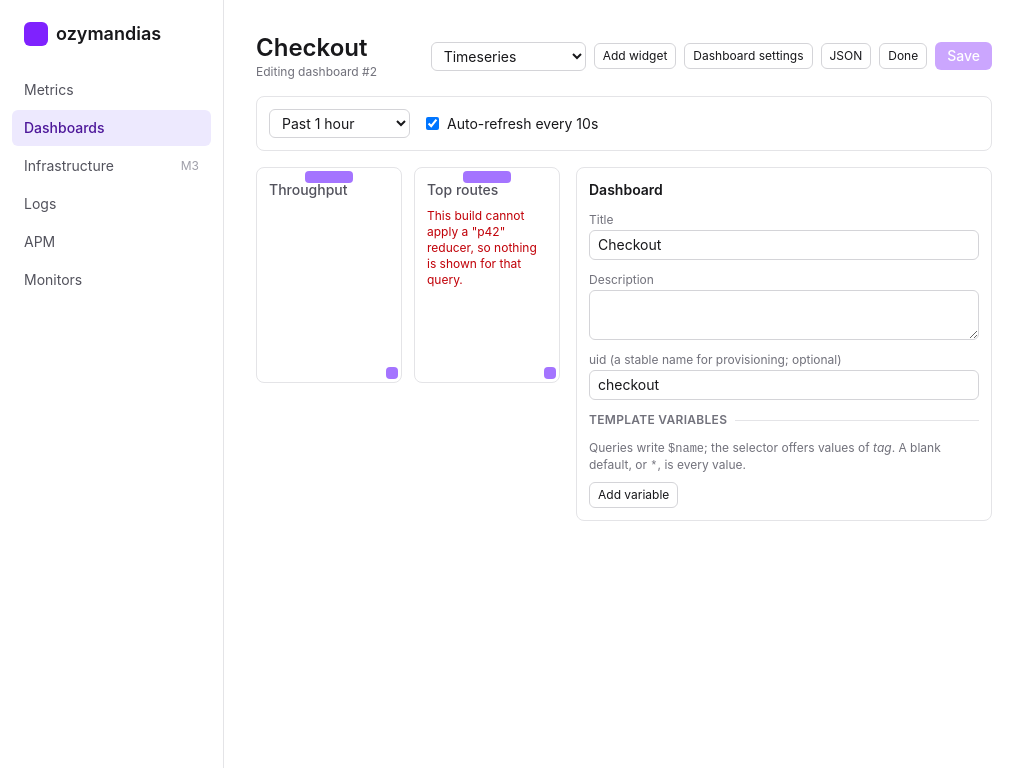
Test: saving › lists every problem a refusal names
Expected: the heading "Checkout" is shown, [256,32,377,64]
Clear the field labelled "Title". click: (784, 245)
box: [589,230,979,260]
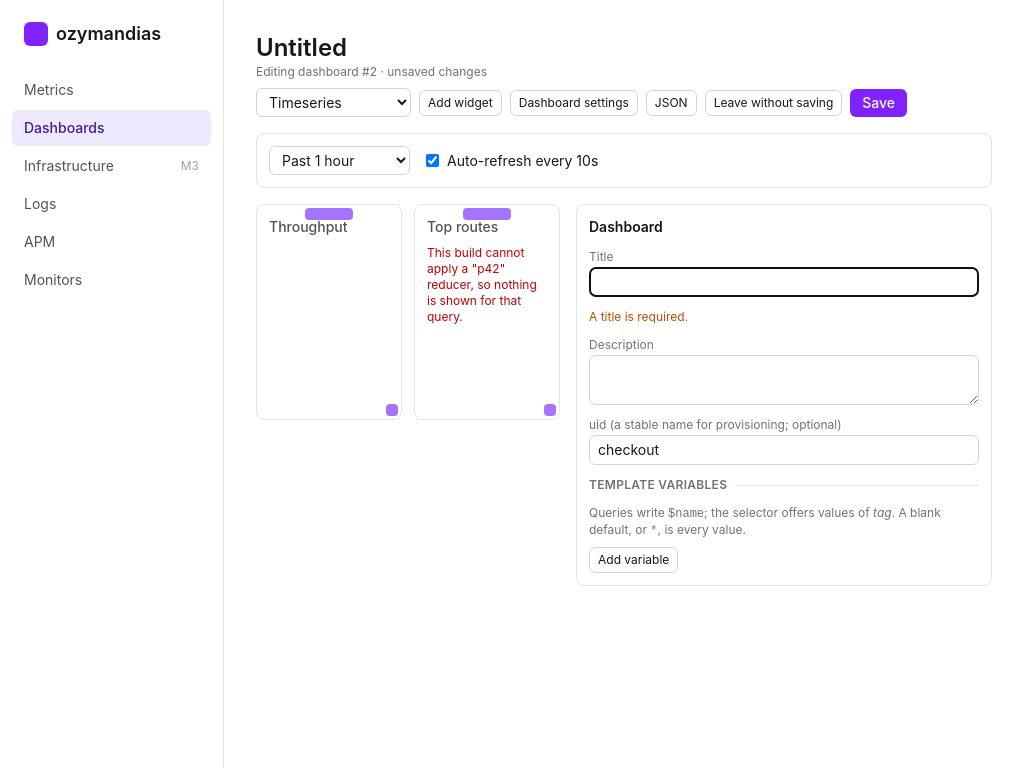
Click the button "Save". click: (879, 102)
box: [850,88,907,116]
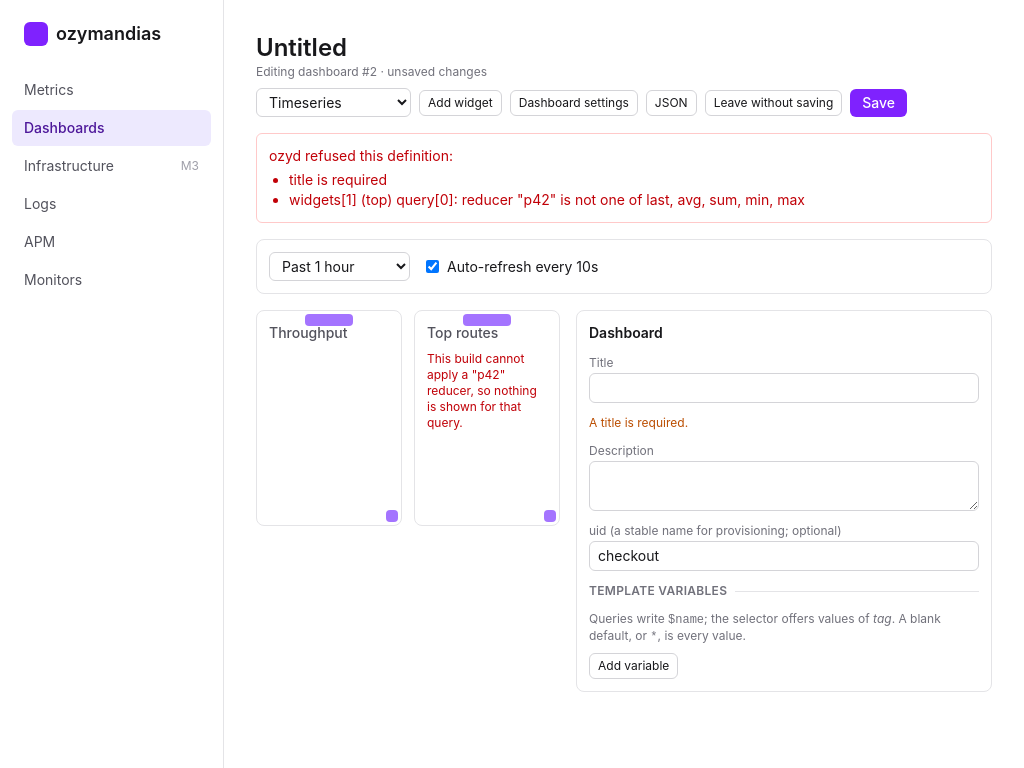
Result: the list items read "title is required", "widgets[1] (top) query[0]: reducer \"p42\" is not one of last, avg, sum, min, max", in this order at [289,171,387,188]; [289,191,805,208]
